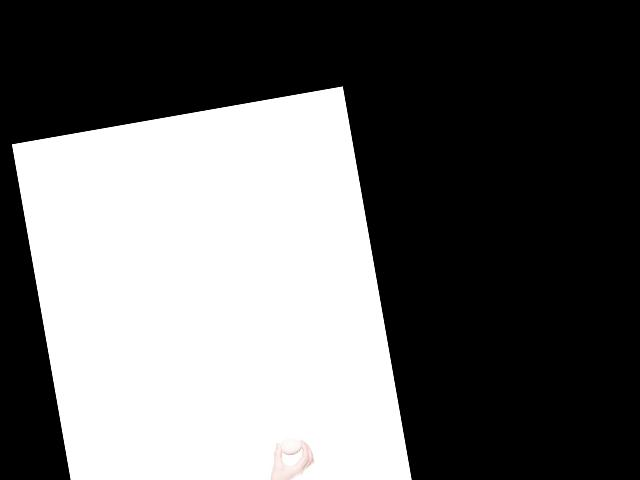egg: (279, 437, 302, 456)
